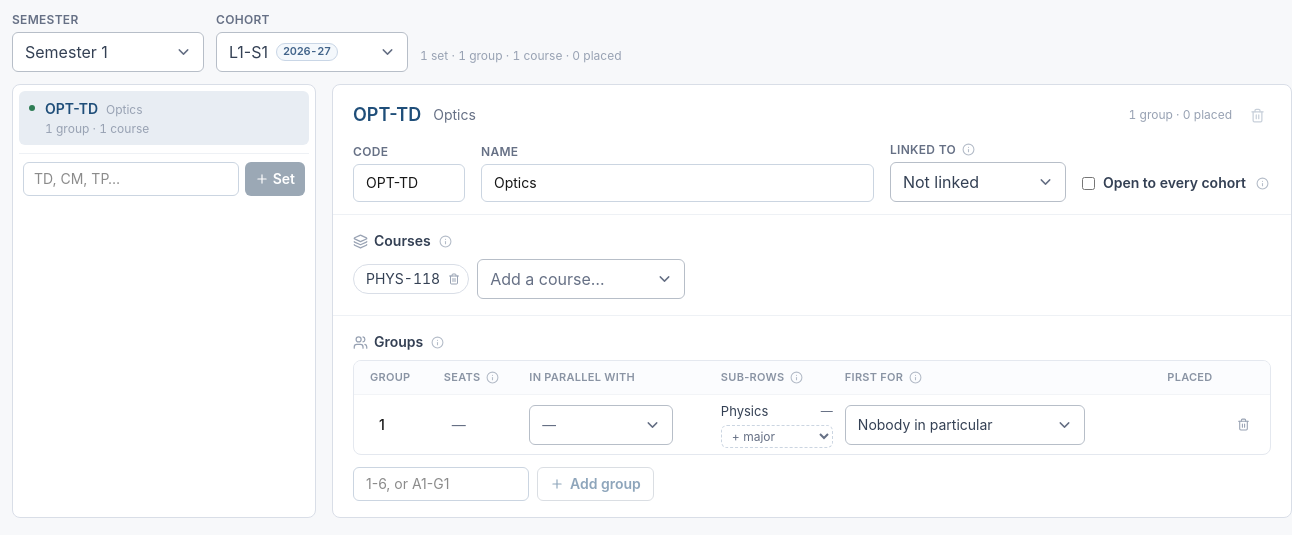
Test: adding a set › is refused in a semester linked to no portal term, and says where to link it
Step 1. Type "TP" into the field named "New set" → (131, 179), box [23,162,239,196]
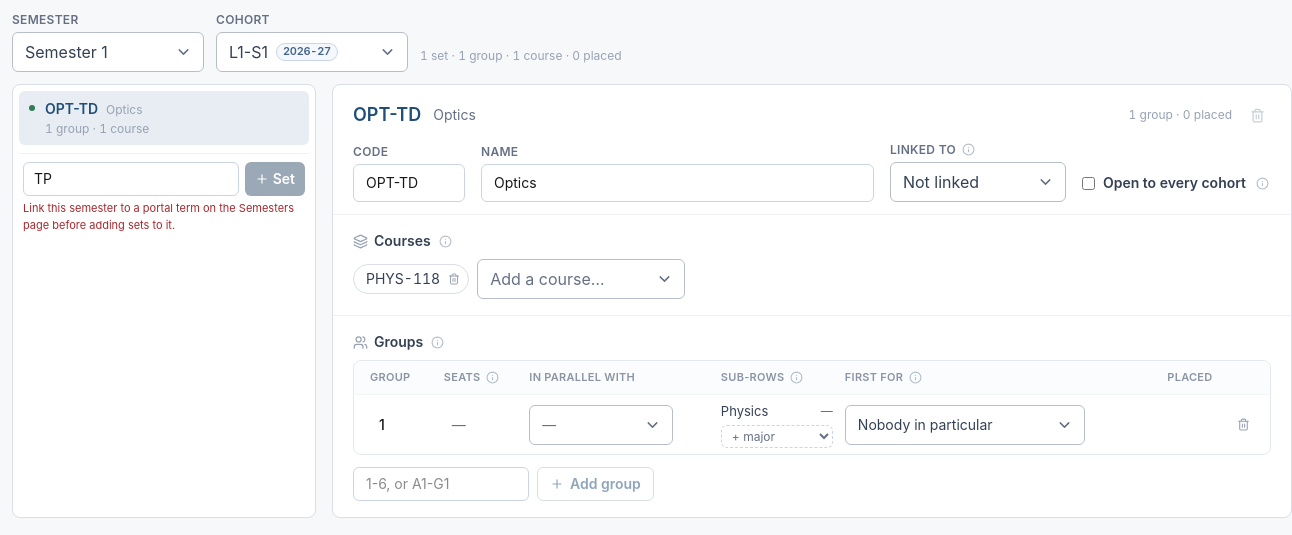
Expected: the button "Set" is disabled, [245,162,305,196]
Now the text "Link this semester to a portal term on the Semesters page" is shown, box [23,201,294,232]
